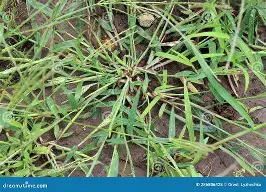weed: (0, 0, 265, 175)
